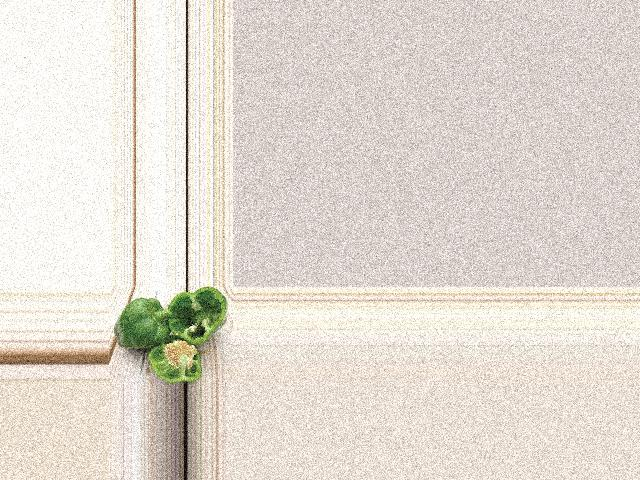bell_pepper: (144, 336, 212, 382)
